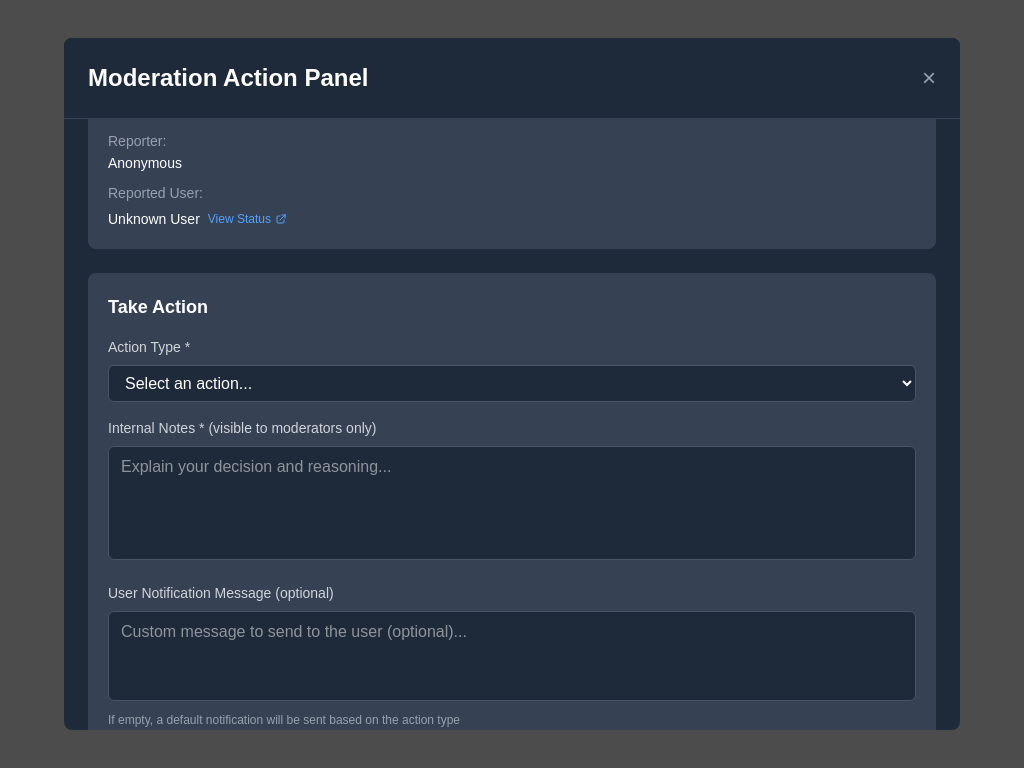
Test: ModerationActionPanel › Confirmation Dialogs › should show confirmation dialog for user suspension
(page scrolled)
Note: Select suspension
Select "Suspend User" in the dropdown labelled "Action Type *" at (512, 384), box [108,365,916,402]
(page scrolled)
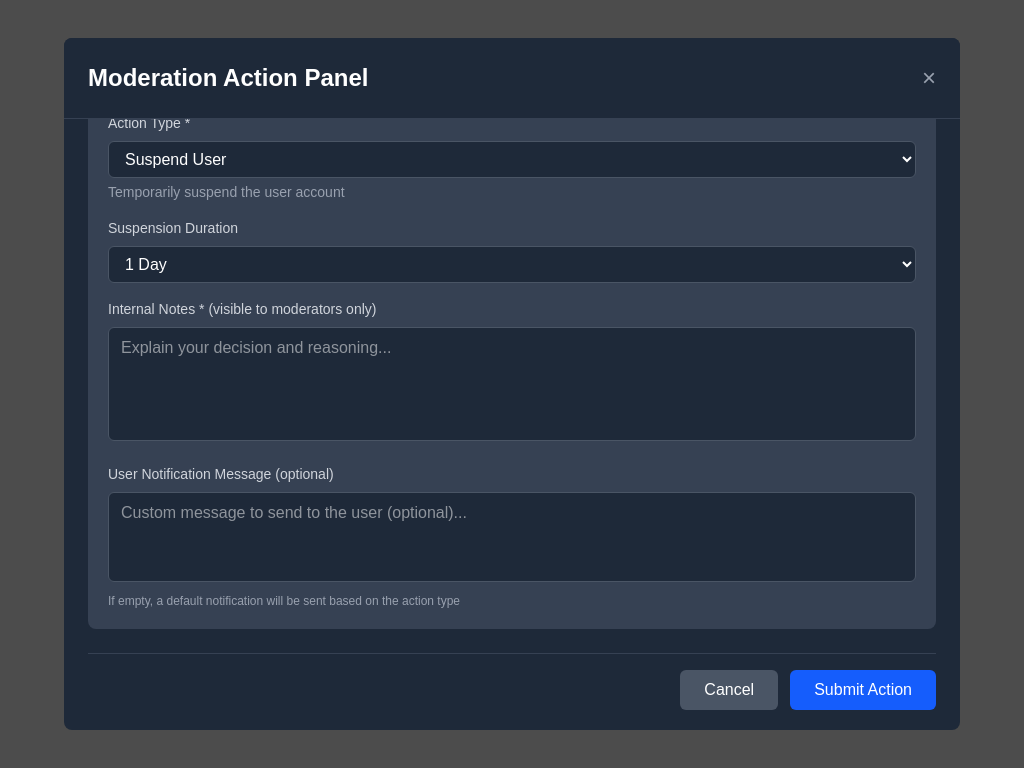
Note: Fill in internal notes
Type "Suspending for violations" into the text box labelled "Internal Notes * (visible to moderators only)".
click(512, 384); type("Suspending for violations")  # box [108,327,916,441]
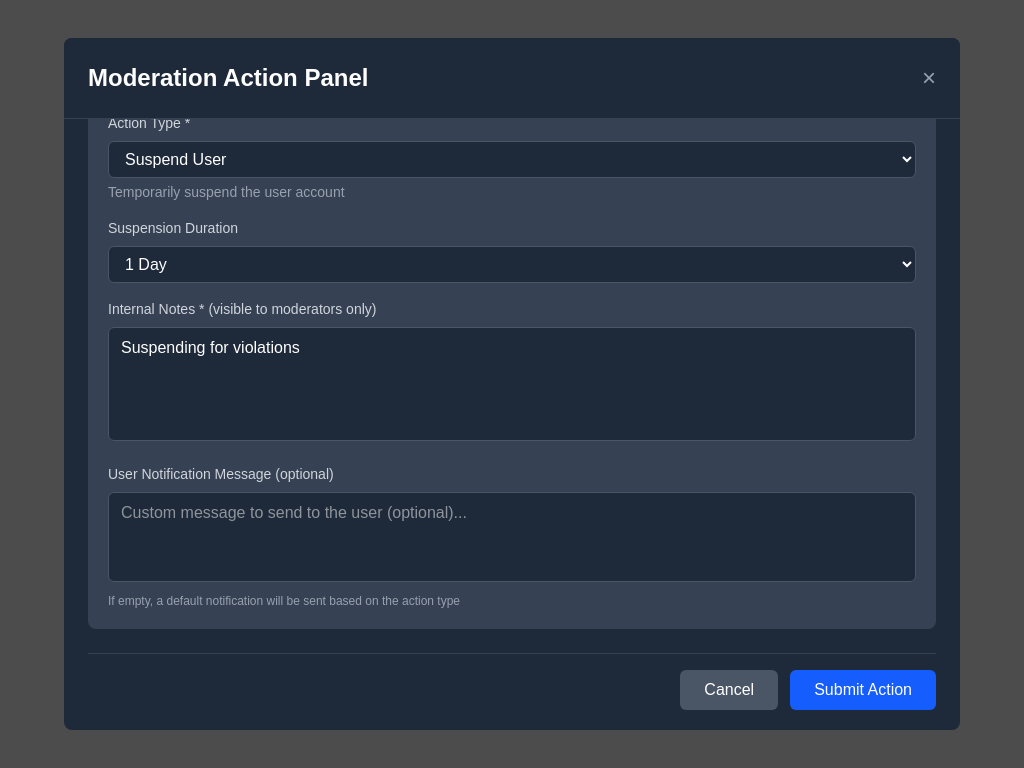
Click the button "Submit Action".
click(863, 690)  # box [790,670,936,710]
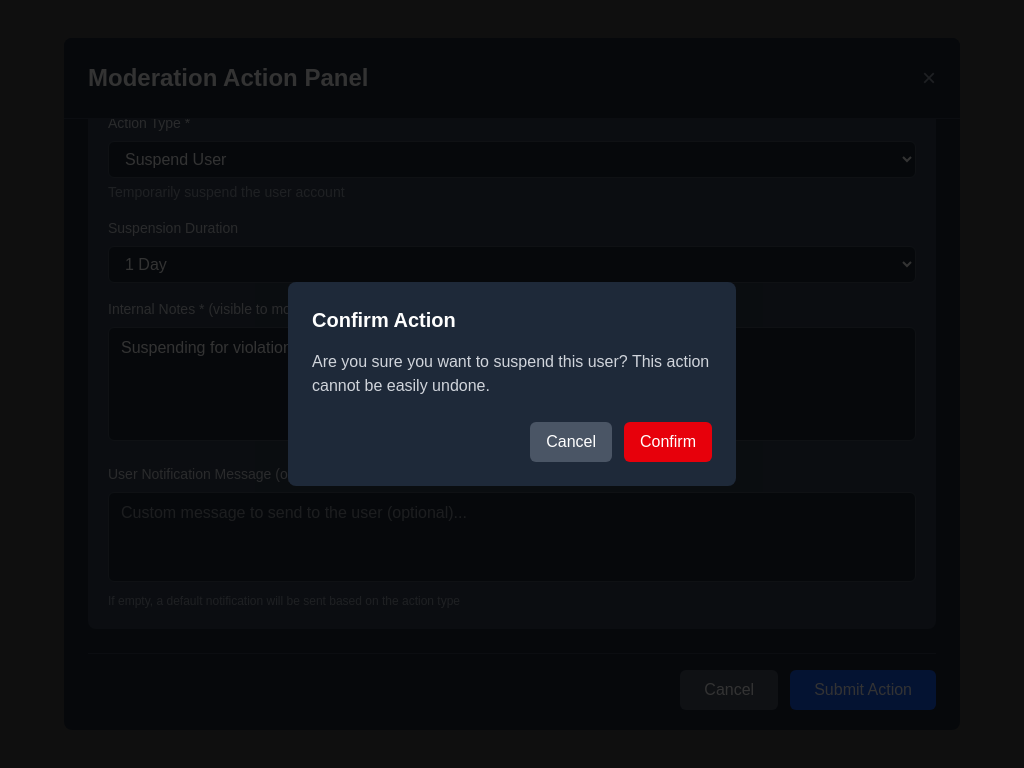
Now the heading "Confirm Action" is shown, box [312,309,456,331]
